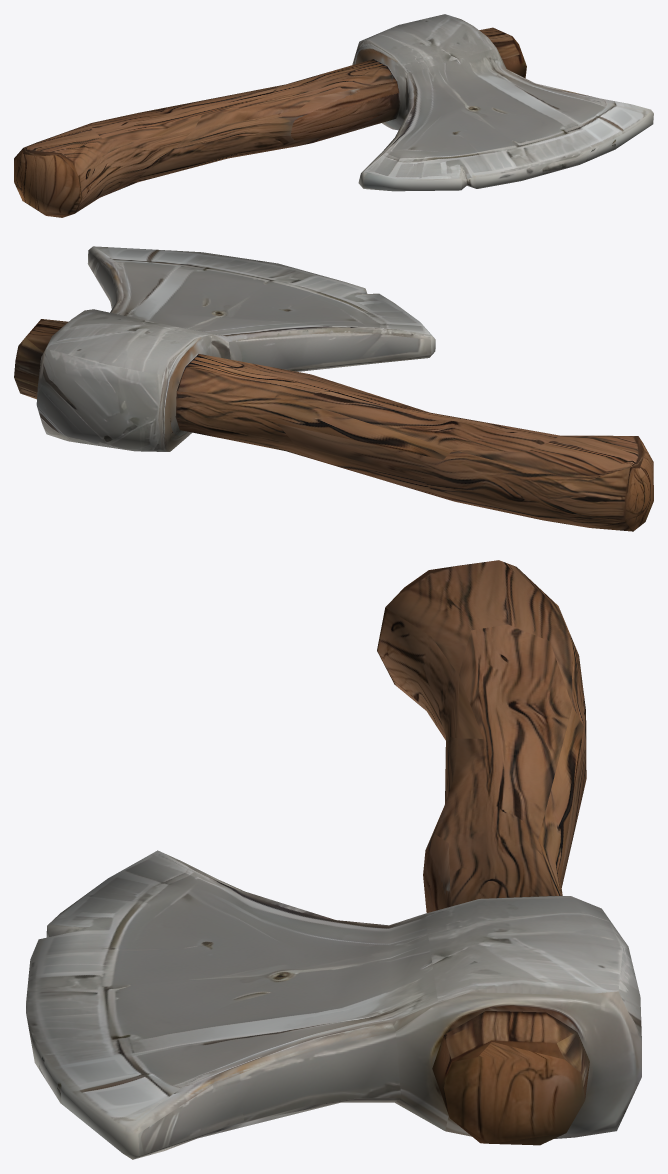
3 views of the same model, one above another, from view 1: azimuth 30°, elevation 25°; view 2: azimuth 150°, elevation 25°; view 3: azimuth 270°, elevation 25° (orthographic). The views are drawn at different scales.
Parts seen in each view (by area): view 1: texture_pbr_v128; view 2: texture_pbr_v128; view 3: texture_pbr_v128.
Boxes of the visible parts, x1,y1,x2,y2 form: texture_pbr_v128: (14,14,653,217); texture_pbr_v128: (14,246,653,531); texture_pbr_v128: (26,560,641,1159).
Size of the model in its own units: 114 by 15.7 by 56.17.
Materials: 1 (1 with a texture image).
